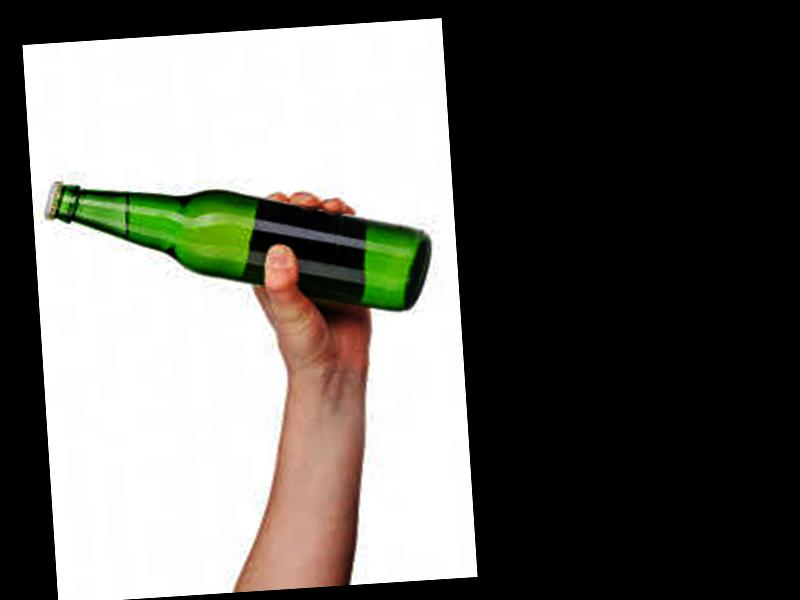Beer: (43, 158, 435, 333)
